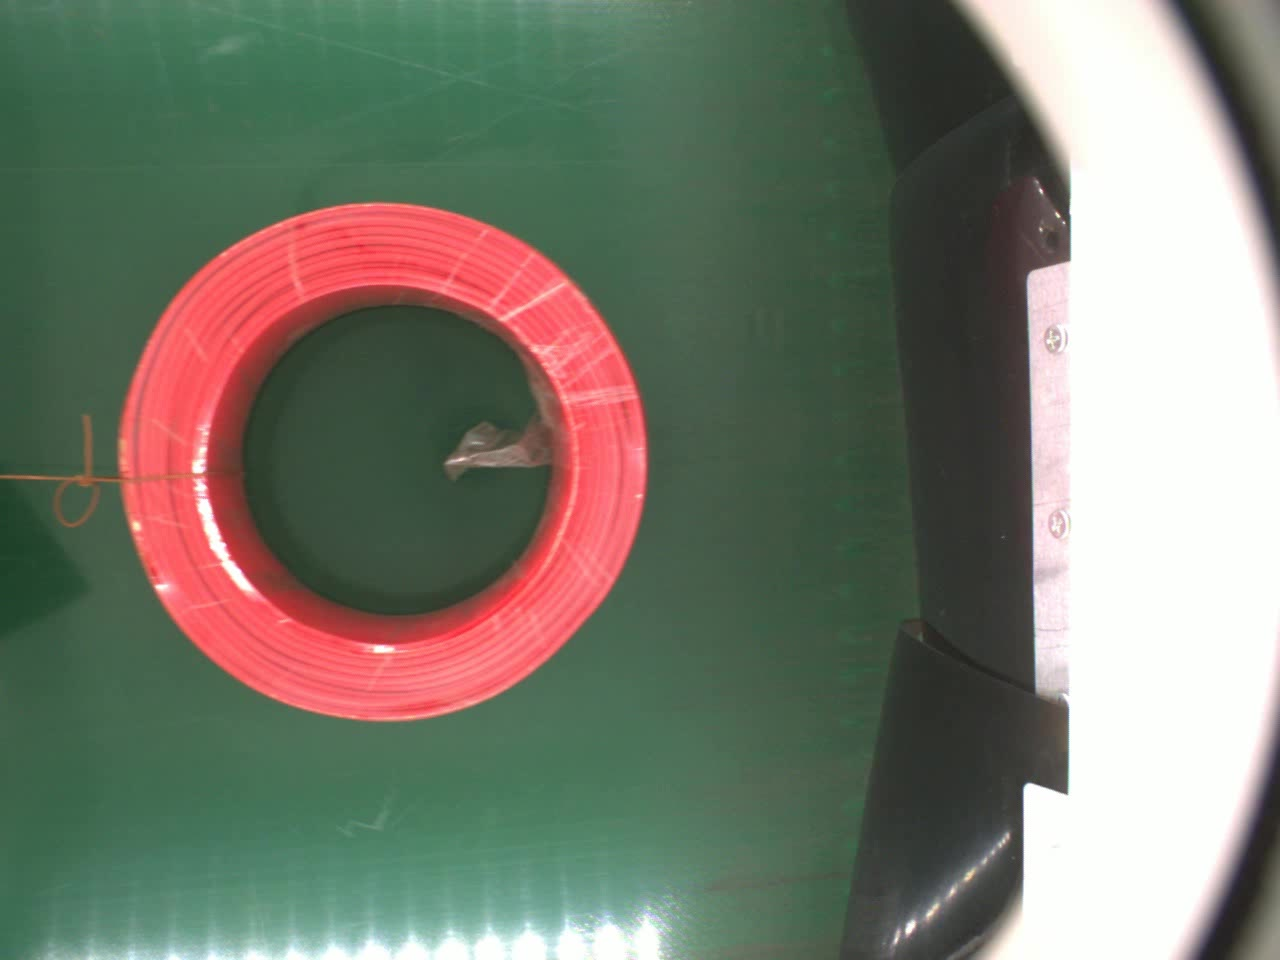red: (115, 201, 653, 722)
